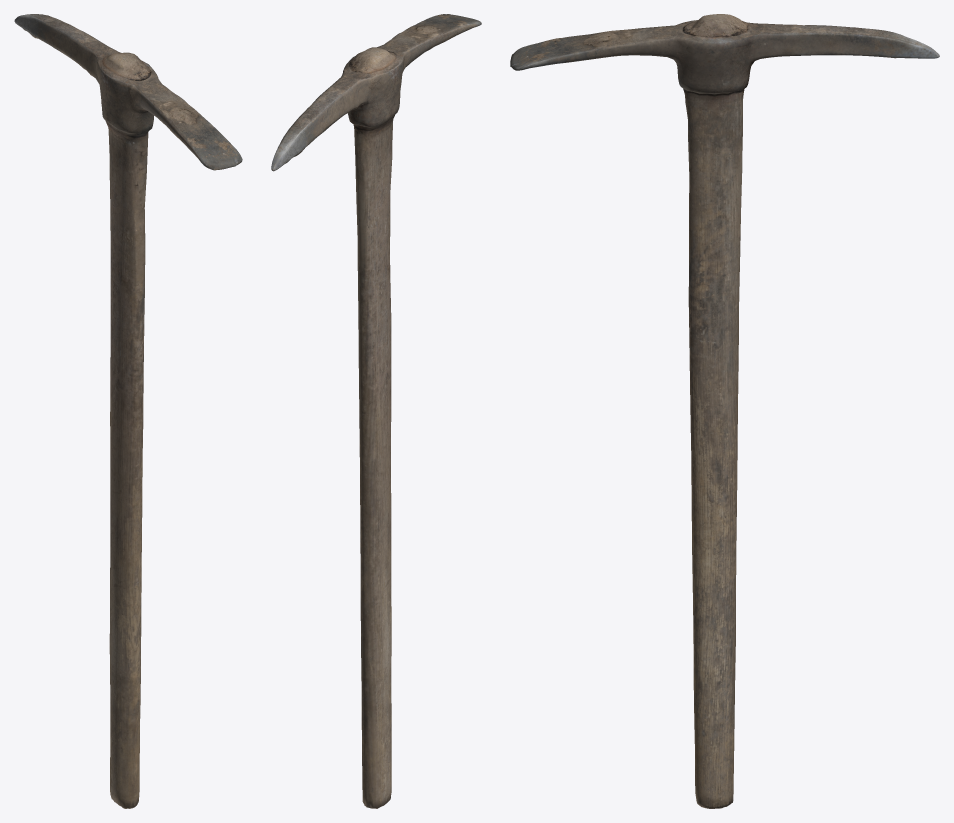
Rendered from pick.glb.
3 renders of one model, left to right at view 1: azimuth 30°, elevation 25°; view 2: azimuth 150°, elevation 25°; view 3: azimuth 270°, elevation 25°, orthographic. The views are drawn at different scales.
Visible parts, largest first — view 1: picke_dirty_01; view 2: picke_dirty_01; view 3: picke_dirty_01.
Part boxes in pixels (x1=…): picke_dirty_01: x1=14, y1=14, x2=242, y2=808; picke_dirty_01: x1=271, y1=14, x2=481, y2=808; picke_dirty_01: x1=510, y1=14, x2=939, y2=808.
Bounding box in the file's own units: 0.057 × 0.92 × 0.4534.
Materials: 1 (1 with a texture image).
